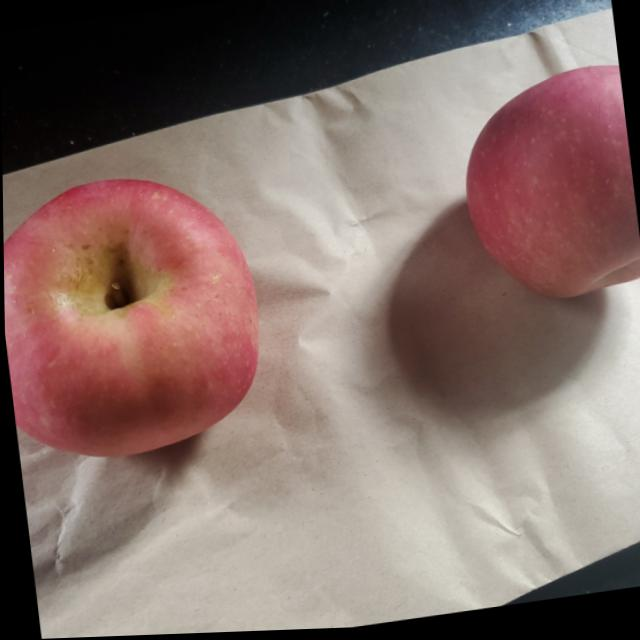apple: (2, 157, 272, 473), (454, 68, 640, 318)
